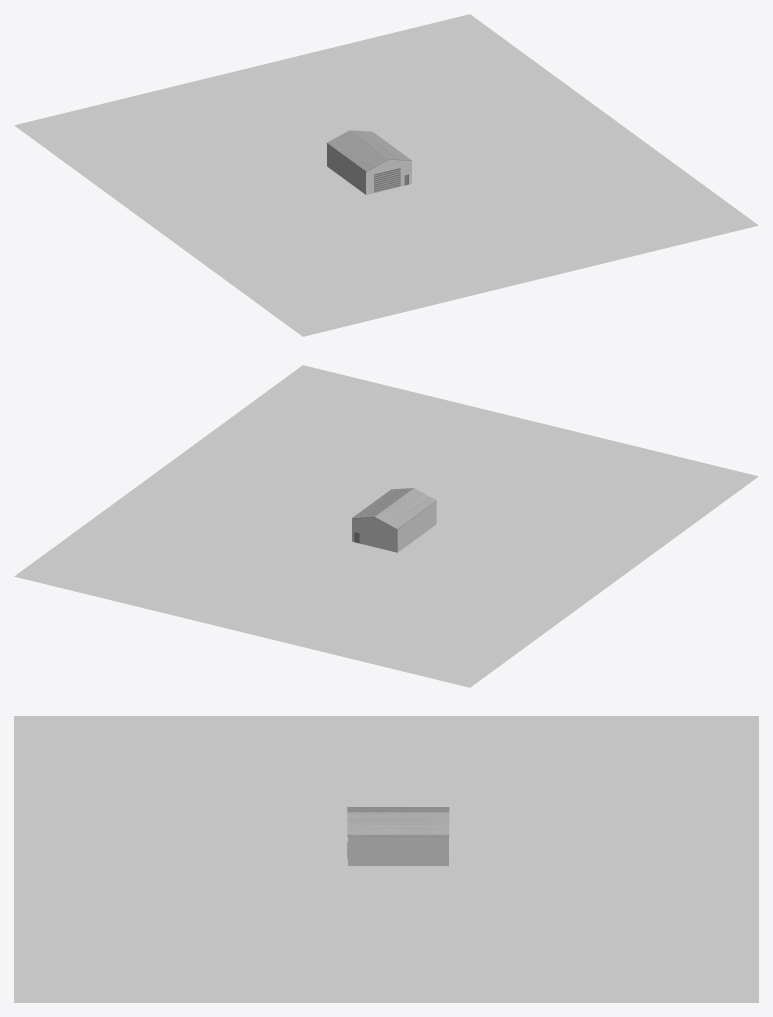
3 views of the same model, one above another, from view 1: azimuth 30°, elevation 25°; view 2: azimuth 150°, elevation 25°; view 3: azimuth 270°, elevation 25° (orthographic). The views are drawn at different scales.
Visible parts, largest first — view 1: Plane.003, Plane.002, Plane, Plane.001, Roof, Wall_L, Wall_F; view 2: Plane.003, Plane, Plane.001, Plane.002, Roof, Wall_B, Wall_L; view 3: Plane.003, Plane.002, Plane.001, Plane, Roof, Wall_R.
Part boxes in pixels (<box>): Plane.003: <box>14,14,732,317</box>; Plane.002: <box>23,21,741,323</box>; Plane: <box>116,33,758,336</box>; Plane.001: <box>37,31,751,330</box>; Roof: <box>327,130,411,171</box>; Wall_L: <box>327,143,366,194</box>; Wall_F: <box>366,159,411,194</box>; Plane.003: <box>14,384,729,687</box>; Plane: <box>40,365,758,668</box>; Plane.001: <box>35,370,751,568</box>; Plane.002: <box>42,377,722,565</box>; Roof: <box>352,488,436,529</box>; Wall_B: <box>352,517,397,552</box>; Wall_L: <box>397,501,436,552</box>; Plane.003: <box>80,716,758,1002</box>; Plane.002: <box>57,716,736,1002</box>; Plane.001: <box>31,716,709,1002</box>; Plane: <box>14,716,692,1002</box>; Roof: <box>347,807,449,836</box>; Wall_R: <box>348,836,448,865</box>.
Size of the model in its own units: 103 by 113 by 6.55.
